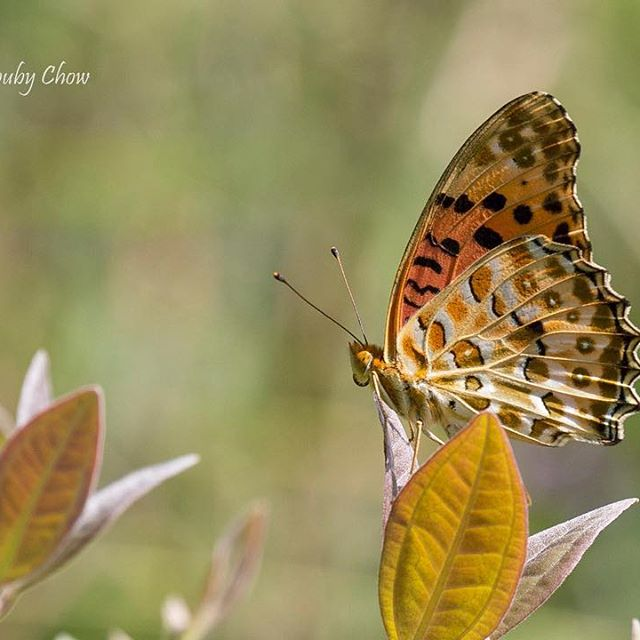Argyreus hyperbius: (268, 88, 638, 464)
butterfly: (270, 90, 640, 466)
